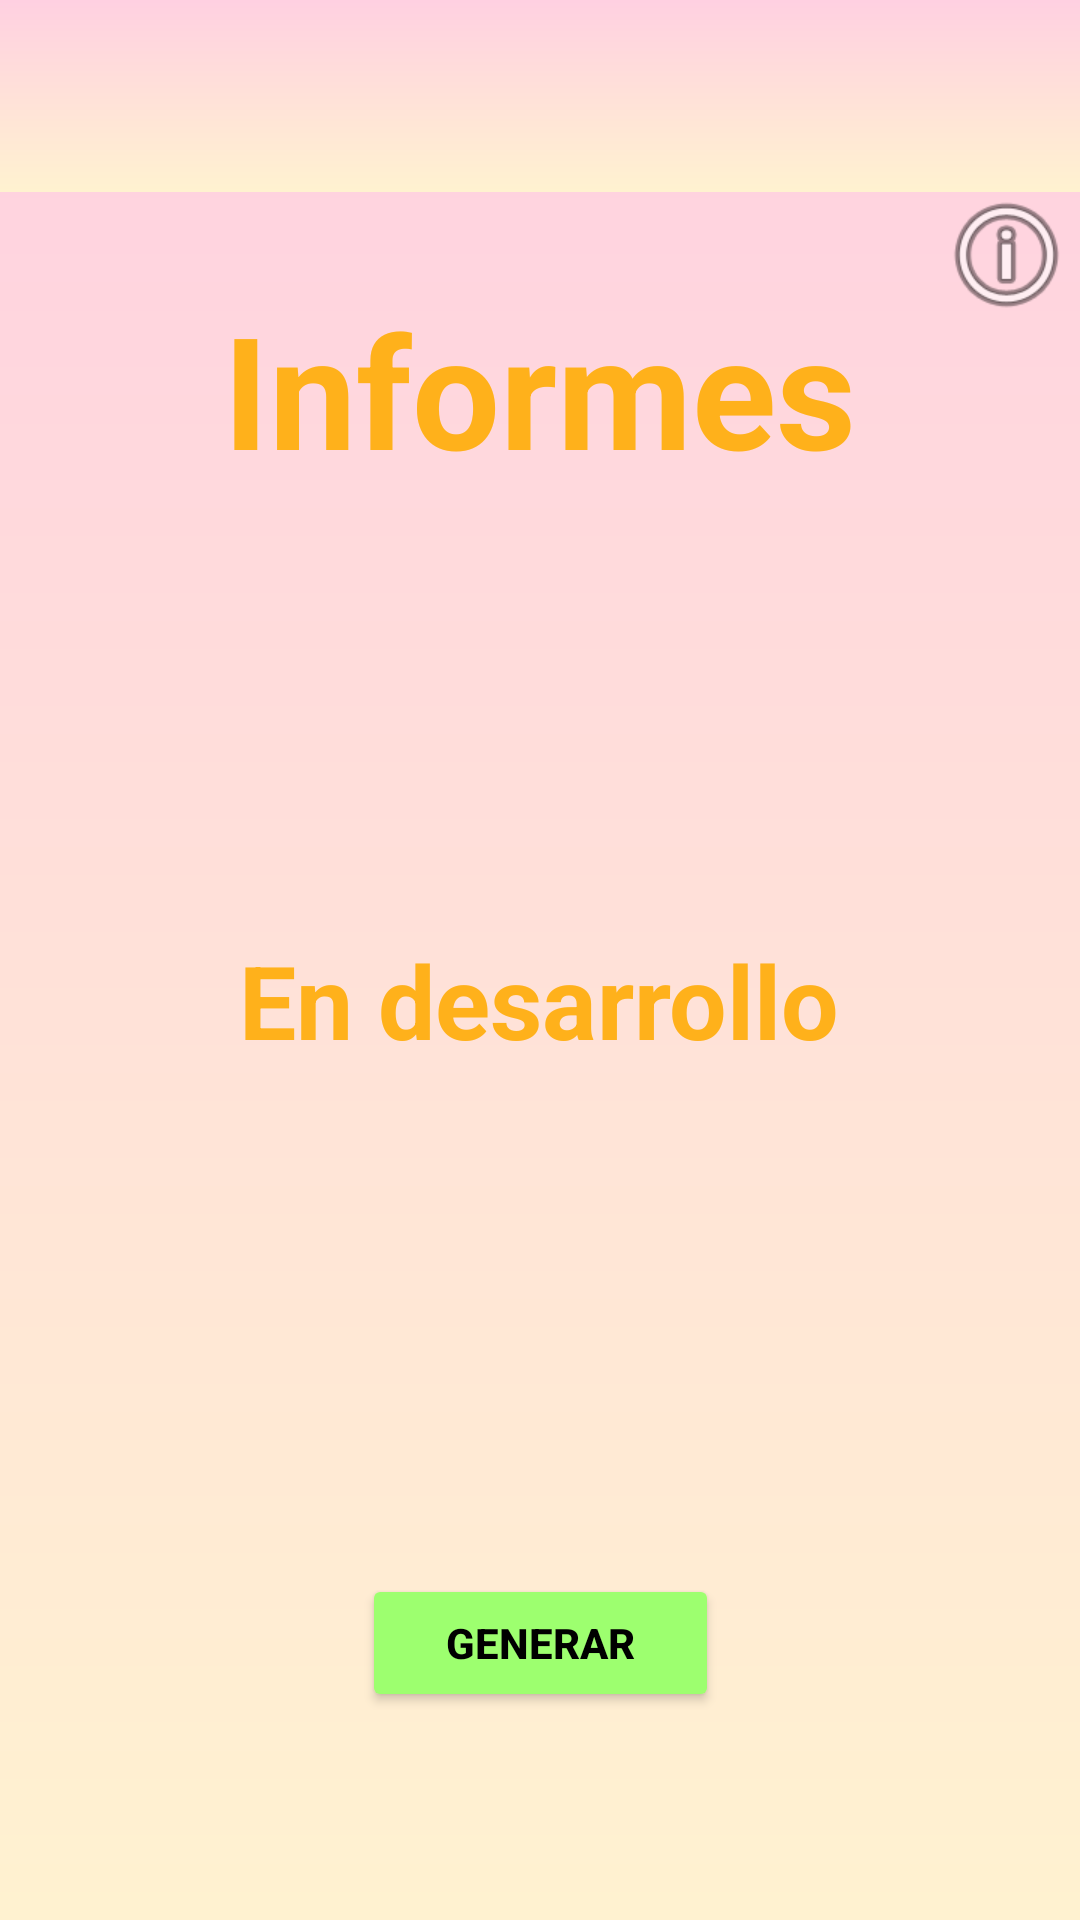

Point at icon controls on the screen. Image size 1080×1920, points as point (x, y).
info details: point (1006, 255)
